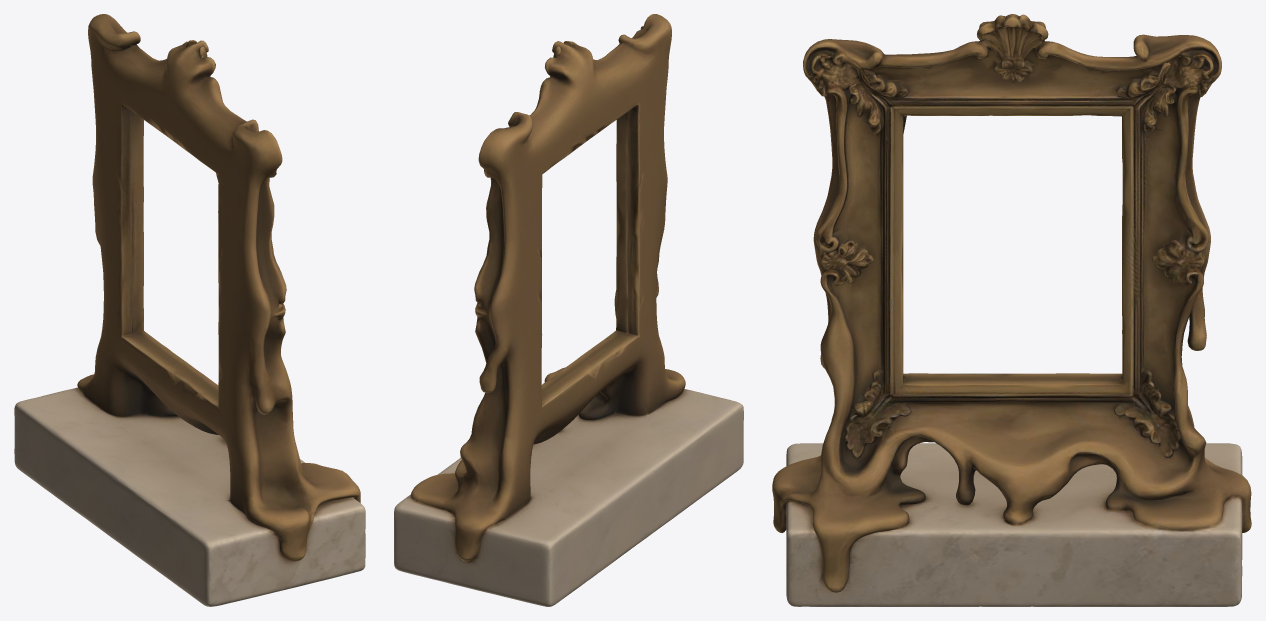
File: ts_meltframe.glb
3 views of the same model, side by side, from view 1: azimuth 30°, elevation 25°; view 2: azimuth 150°, elevation 25°; view 3: azimuth 270°, elevation 25° (orthographic). The views are drawn at different scales.
Visible parts, largest first — view 1: tripo_node_0e64c946-37a6-4b0a-818c-9b0d03ab0997; view 2: tripo_node_0e64c946-37a6-4b0a-818c-9b0d03ab0997; view 3: tripo_node_0e64c946-37a6-4b0a-818c-9b0d03ab0997.
Part boxes in pixels (x1,y1,x2,y2): tripo_node_0e64c946-37a6-4b0a-818c-9b0d03ab0997: [14, 14, 365, 606]; tripo_node_0e64c946-37a6-4b0a-818c-9b0d03ab0997: [394, 14, 743, 606]; tripo_node_0e64c946-37a6-4b0a-818c-9b0d03ab0997: [772, 14, 1251, 606].
Size of the model in its own units: 0.375 by 1 by 0.7851.
Materials: 1 (1 with a texture image).
